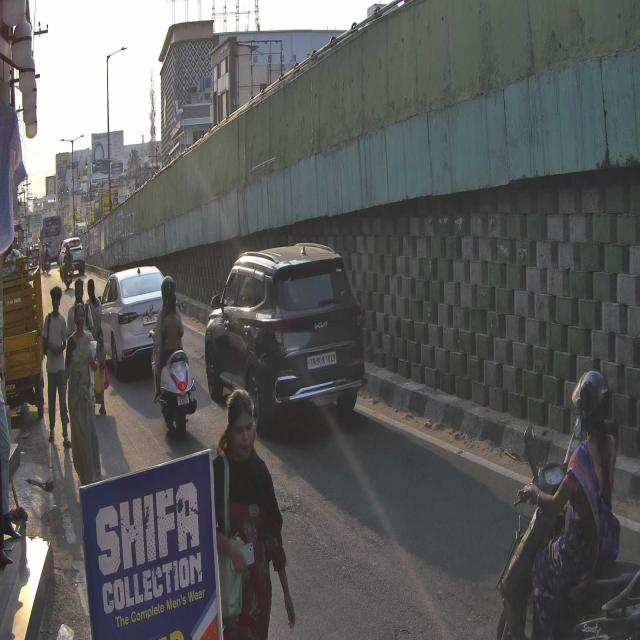single_rider: (494, 365, 640, 640)
